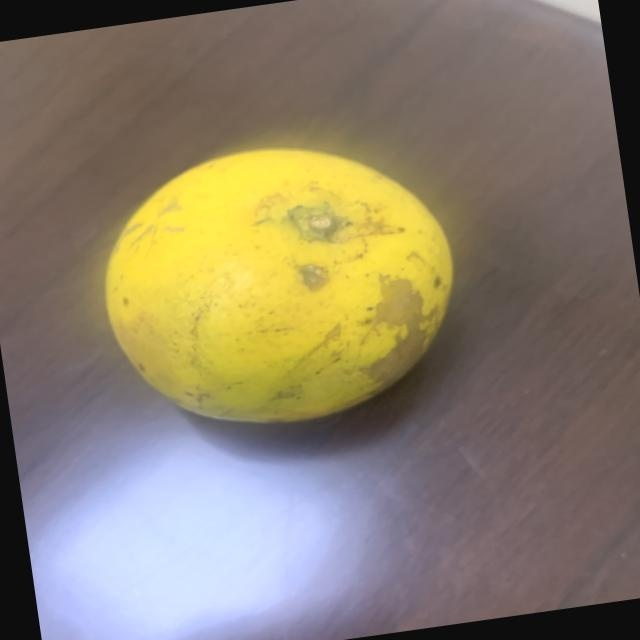agrume: (70, 116, 493, 470)
